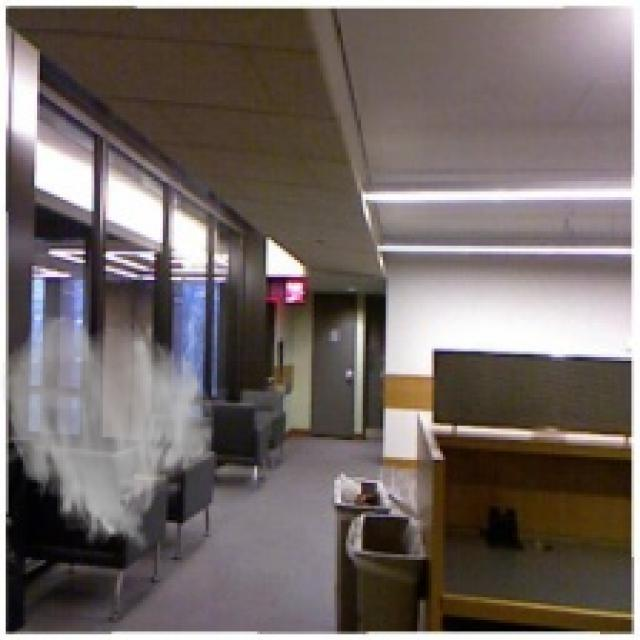smoke: (0, 312, 217, 554)
